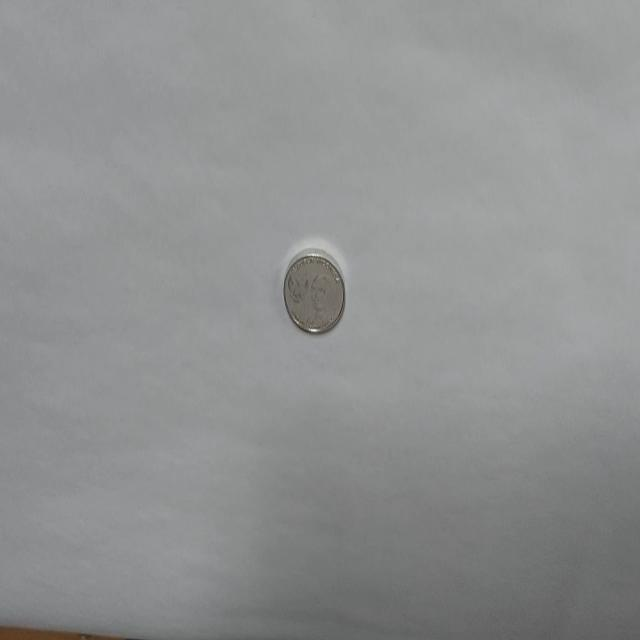lima ratus rupiah: (282, 248, 346, 335)
